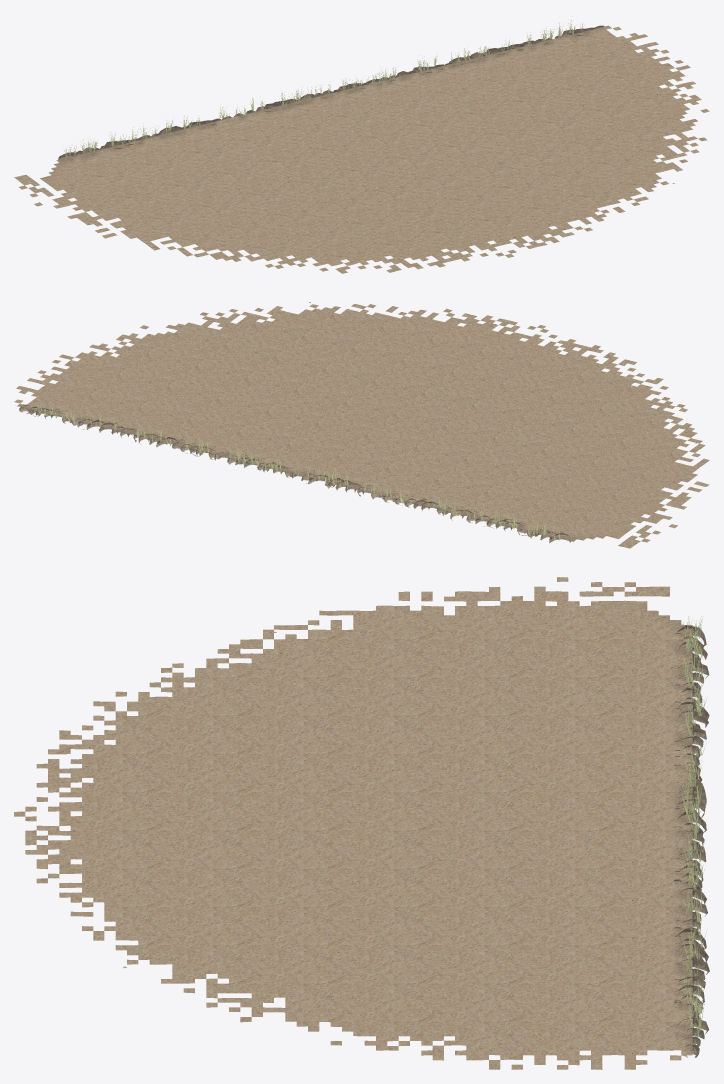
3 views of the same model, one above another, from view 1: azimuth 30°, elevation 25°; view 2: azimuth 150°, elevation 25°; view 3: azimuth 270°, elevation 25° (orthographic). The views are drawn at different scales.
Visible parts, largest first — view 1: shore, rock, reed; view 2: shore, rock, reed; view 3: shore, rock, reed.
Boxes of the visible parts, <box> form: shore: <box>14,25,709,273</box>; rock: <box>58,25,674,254</box>; reed: <box>64,16,582,159</box>; shore: <box>14,304,709,548</box>; rock: <box>19,302,696,542</box>; reed: <box>37,403,568,540</box>; shore: <box>14,577,692,1069</box>; rock: <box>71,625,709,1057</box>; reed: <box>680,616,706,1036</box>.
Size of the model in its own units: 51.5 by 1.6 by 30.77.
Materials: 3 (2 with a texture image).
